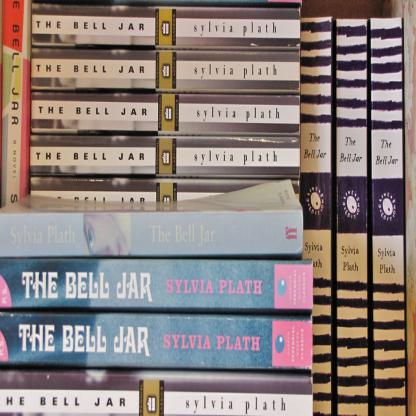book: (0, 0, 402, 416)
